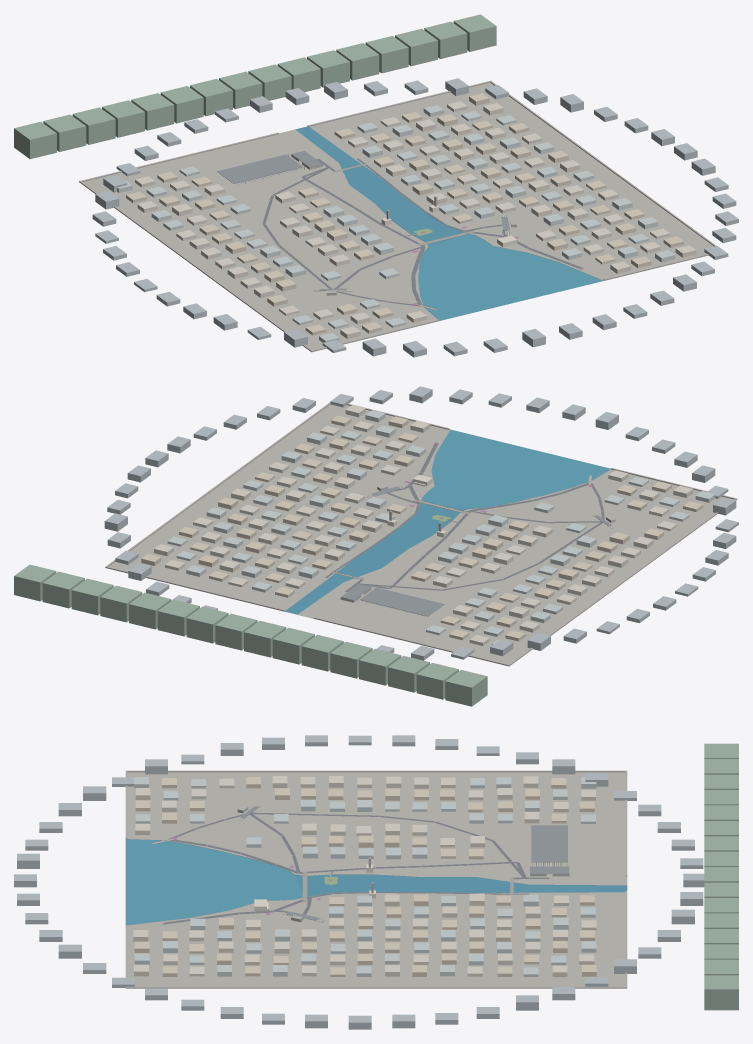
The model's file is zurich-streetparade.glb.
3 renders of one model, top to bottom at view 1: azimuth 30°, elevation 25°; view 2: azimuth 150°, elevation 25°; view 3: azimuth 270°, elevation 25°, orthographic. The views are drawn at different scales.
Parts seen in each view (by area): view 1: GEO_EXPORT_013_city_center_pavement, GEO_EXPORT_005_bellevue_pavement, GEO_EXPORT_001_background_city_hill, GEO_EXPORT_000_background_city_distant, GEO_EXPORT_025_lake_lake, GEO_EXPORT_012_city_center_facade_2, GEO_EXPORT_010_city_center_facade_0, GEO_EXPORT_011_city_center_facade_1, GEO_EXPORT_031_limmat_river, GEO_EXPORT_002_background_city_stone, GEO_EXPORT_051_zurich_hb_facade_0, GEO_EXPORT_053_zurich_hb_facade_2 (+10 smaller); view 2: GEO_EXPORT_013_city_center_pavement, GEO_EXPORT_005_bellevue_pavement, GEO_EXPORT_001_background_city_hill, GEO_EXPORT_000_background_city_distant, GEO_EXPORT_025_lake_lake, GEO_EXPORT_012_city_center_facade_2, GEO_EXPORT_010_city_center_facade_0, GEO_EXPORT_011_city_center_facade_1, GEO_EXPORT_031_limmat_river, GEO_EXPORT_002_background_city_stone, GEO_EXPORT_051_zurich_hb_facade_0, GEO_EXPORT_053_zurich_hb_facade_2 (+10 smaller); view 3: GEO_EXPORT_013_city_center_pavement, GEO_EXPORT_005_bellevue_pavement, GEO_EXPORT_000_background_city_distant, GEO_EXPORT_025_lake_lake, GEO_EXPORT_001_background_city_hill, GEO_EXPORT_012_city_center_facade_2, GEO_EXPORT_010_city_center_facade_0, GEO_EXPORT_031_limmat_river, GEO_EXPORT_011_city_center_facade_1, GEO_EXPORT_002_background_city_stone, GEO_EXPORT_052_zurich_hb_facade_1, GEO_EXPORT_051_zurich_hb_facade_0 (+10 smaller).
Boxes of the visible parts, x1,y1,x2,y2 form: GEO_EXPORT_013_city_center_pavement: (83,129,439,352); GEO_EXPORT_005_bellevue_pavement: (309,82,713,280); GEO_EXPORT_001_background_city_hill: (14,14,496,159); GEO_EXPORT_000_background_city_distant: (92,78,738,357); GEO_EXPORT_025_lake_lake: (418,234,602,320); GEO_EXPORT_012_city_center_facade_2: (176,133,583,278); GEO_EXPORT_010_city_center_facade_0: (199,143,606,273); GEO_EXPORT_011_city_center_facade_1: (163,137,594,267); GEO_EXPORT_031_limmat_river: (295,126,463,246); GEO_EXPORT_002_background_city_stone: (79,80,716,352); GEO_EXPORT_051_zurich_hb_facade_0: (126,93,529,210); GEO_EXPORT_053_zurich_hb_facade_2: (135,101,505,216); GEO_EXPORT_013_city_center_pavement: (297,469,733,665); GEO_EXPORT_005_bellevue_pavement: (106,404,450,611); GEO_EXPORT_001_background_city_hill: (14,564,487,706); GEO_EXPORT_000_background_city_distant: (104,386,738,660); GEO_EXPORT_025_lake_lake: (421,429,610,508); GEO_EXPORT_012_city_center_facade_2: (193,476,627,608); GEO_EXPORT_010_city_center_facade_0: (218,472,605,602); GEO_EXPORT_011_city_center_facade_1: (206,480,582,614); GEO_EXPORT_031_limmat_river: (285,503,467,614); GEO_EXPORT_002_background_city_stone: (105,402,737,666); GEO_EXPORT_051_zurich_hb_facade_0: (141,526,525,641); GEO_EXPORT_053_zurich_hb_facade_2: (154,532,539,645); GEO_EXPORT_013_city_center_pavement: (127,772,627,885); GEO_EXPORT_005_bellevue_pavement: (127,892,625,986); GEO_EXPORT_000_background_city_distant: (14,735,704,1029); GEO_EXPORT_025_lake_lake: (125,839,302,925); GEO_EXPORT_001_background_city_hill: (704,743,738,1010); GEO_EXPORT_012_city_center_facade_2: (329,776,484,976); GEO_EXPORT_010_city_center_facade_0: (328,788,484,976); GEO_EXPORT_031_limmat_river: (295,874,627,896); GEO_EXPORT_011_city_center_facade_1: (329,778,484,976); GEO_EXPORT_002_background_city_stone: (125,770,627,988); GEO_EXPORT_052_zurich_hb_facade_1: (496,776,596,976); GEO_EXPORT_051_zurich_hb_facade_0: (496,778,596,976).
Bounding box in the file's own units: 3585 × 129 × 3770.
